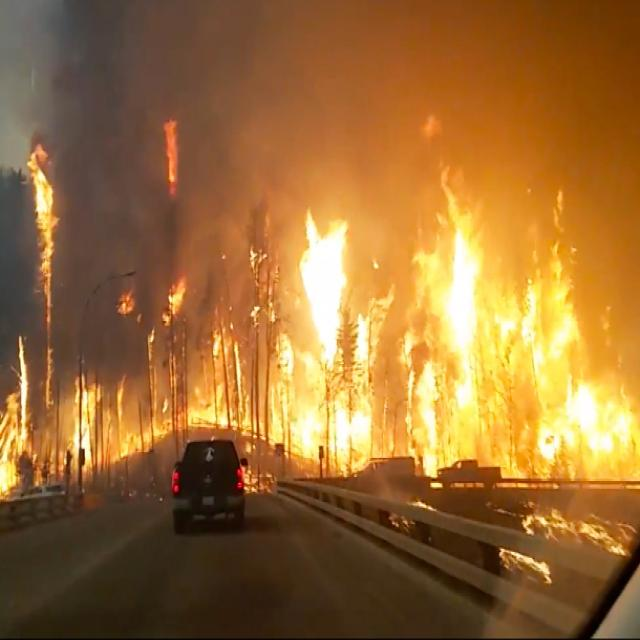Fire: (0, 108, 640, 535)
